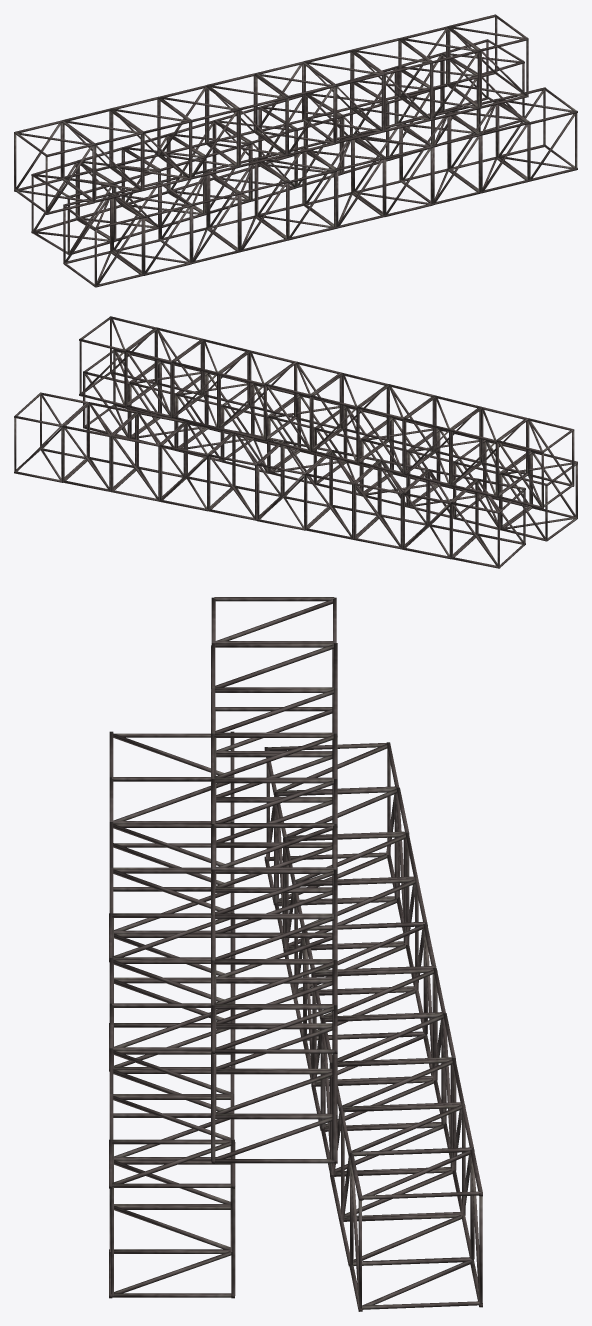
The model's file is Iron_Rode_3.glb.
The picture shows the model from 3 angles, top to bottom: view 1: azimuth 30°, elevation 25°; view 2: azimuth 150°, elevation 25°; view 3: azimuth 270°, elevation 25°; orthographic projection. The views are drawn at different scales.
Visible parts, largest first — view 1: Iron_Rode_3; view 2: Iron_Rode_3; view 3: Iron_Rode_3.
Part boxes in pixels (x1,y1,x2,y2): Iron_Rode_3: (14,14,577,287); Iron_Rode_3: (14,316,577,568); Iron_Rode_3: (109,597,482,1311).
Bounding box in the file's own units: 11.27 × 2.49 × 3.67.
Materials: 1 (1 with a texture image).
